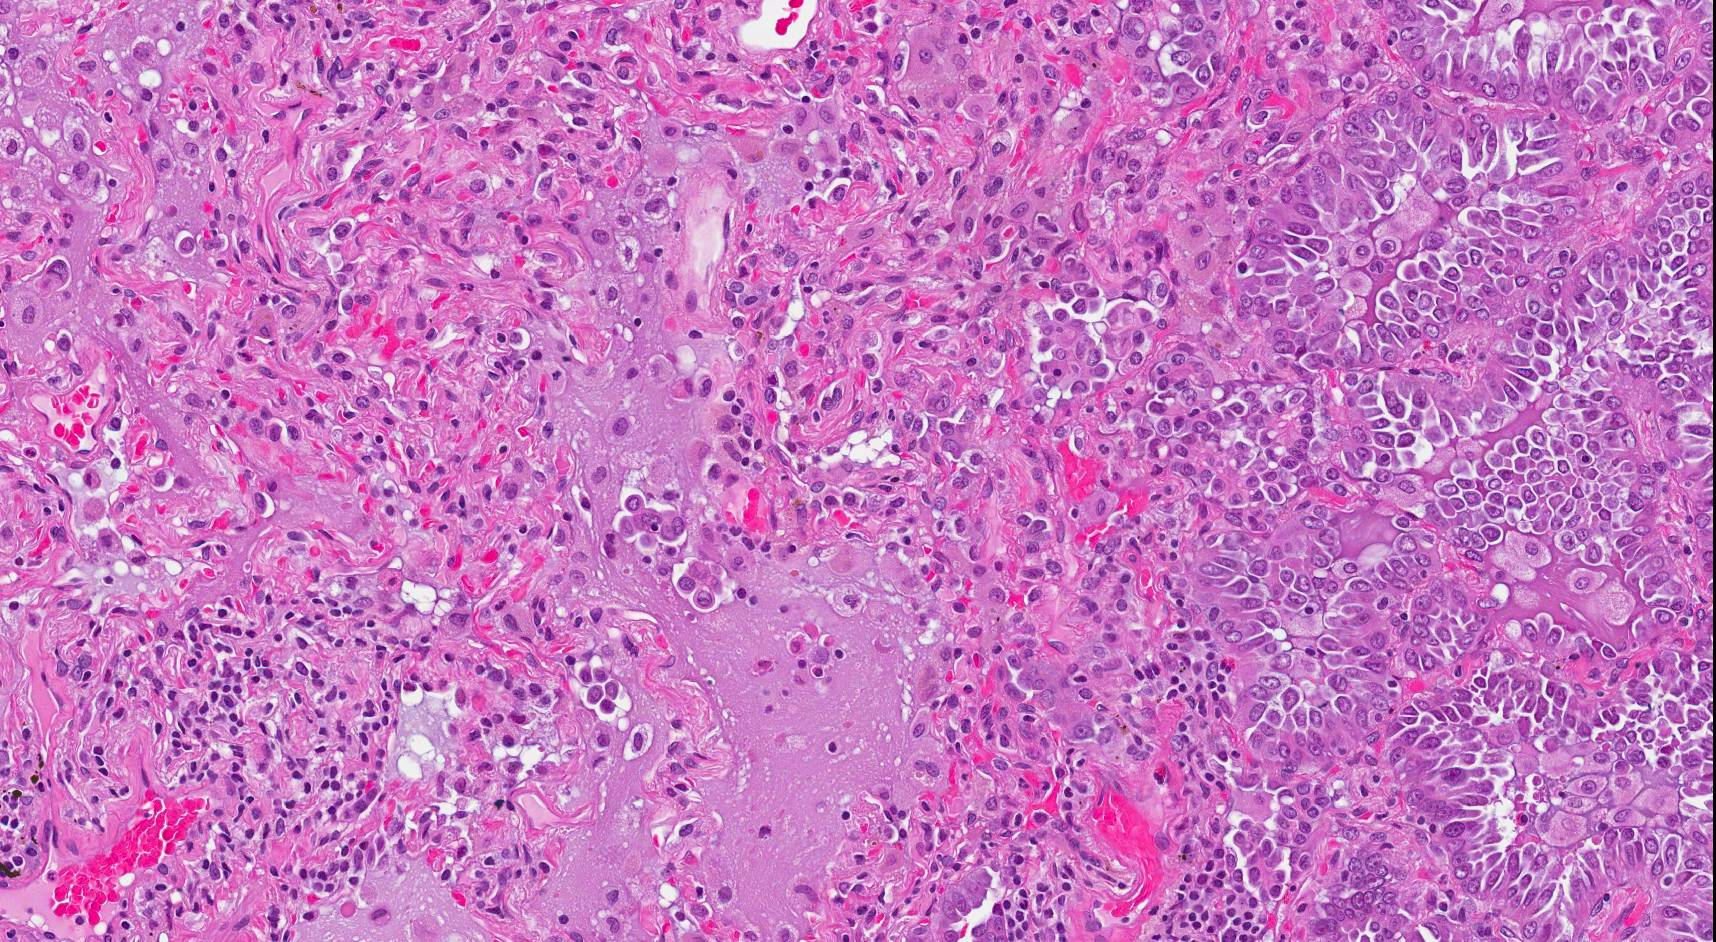stas: (1033, 302, 1109, 403), (611, 481, 687, 554), (676, 561, 728, 613)
